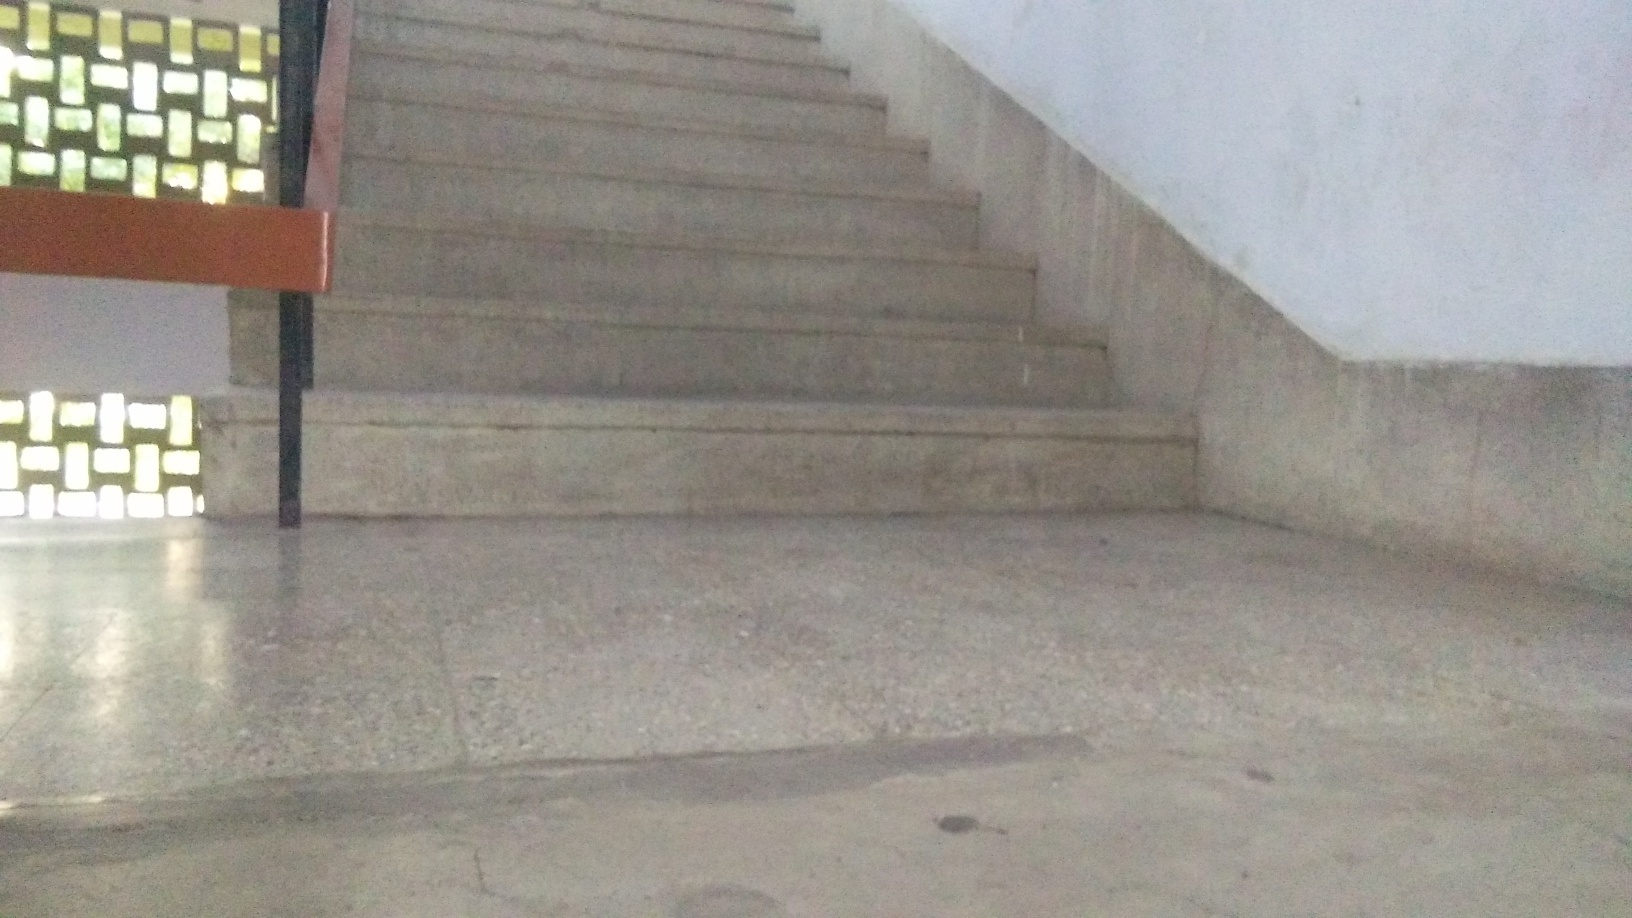stairs_up: (290, 7, 1207, 516)
